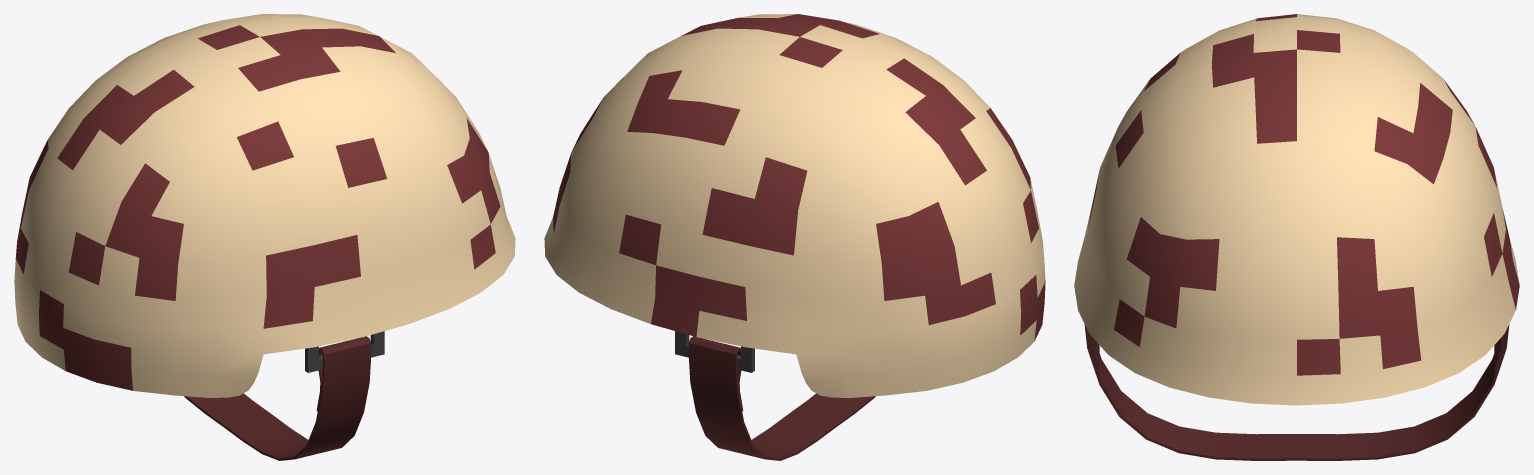
The model's file is military_helmet.gltf.
3 views of the same model, side by side, from view 1: azimuth 30°, elevation 25°; view 2: azimuth 150°, elevation 25°; view 3: azimuth 270°, elevation 25° (orthographic). The views are drawn at different scales.
Visible parts, largest first — view 1: Circle.1815; view 2: Circle.1815; view 3: Circle.1815.
Boxes of the visible parts, left/top/right/bottom form: Circle.1815: left=14, top=14, right=515, bottom=460; Circle.1815: left=544, top=14, right=1045, bottom=460; Circle.1815: left=1074, top=14, right=1519, bottom=460.
Size of the model in its own units: 2.12 by 1.72 by 1.71.
Materials: 1 (1 with a texture image).
